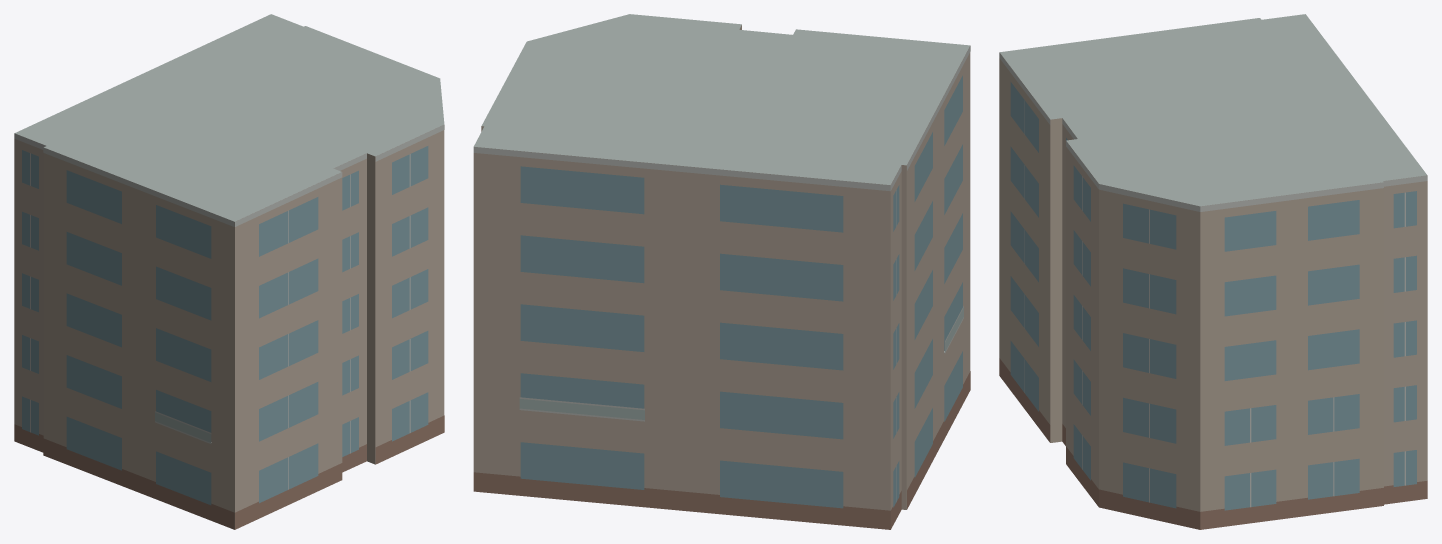
Rendered from survey-upis-32918775.glb.
The picture shows the model from 3 angles, left to right: view 1: azimuth 30°, elevation 25°; view 2: azimuth 150°, elevation 25°; view 3: azimuth 270°, elevation 25°; orthographic projection. The views are drawn at different scales.
Parts seen in each view (by area): view 1: survey-upis-32918775.tmp; view 2: survey-upis-32918775.tmp; view 3: survey-upis-32918775.tmp.
Part boxes in pixels (x1,y1,x2,y2): survey-upis-32918775.tmp: (14,14,444,529); survey-upis-32918775.tmp: (473,14,970,529); survey-upis-32918775.tmp: (999,14,1427,529).
Size of the model in its own units: 17.61 by 13.8 by 16.56.
